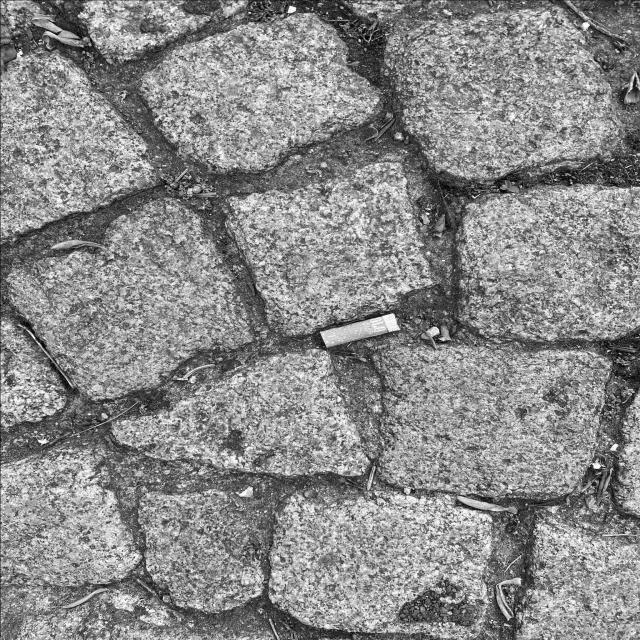other waste: (319, 313, 401, 348)
